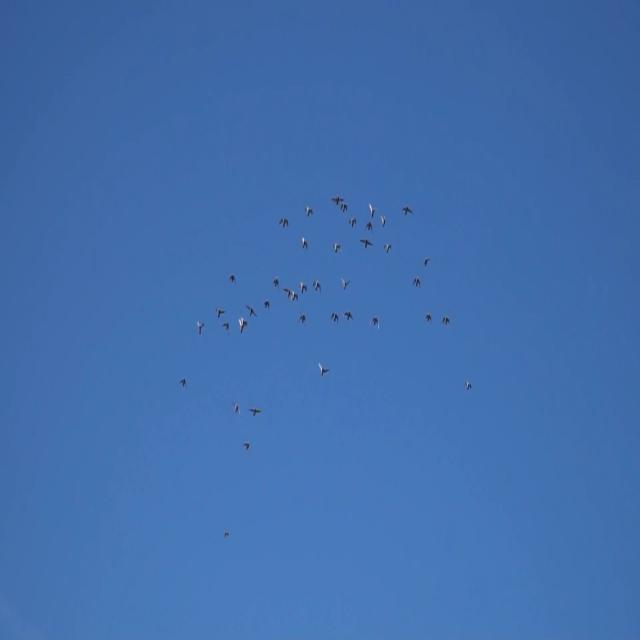bird: (236, 316, 249, 335), (317, 359, 330, 377), (359, 236, 374, 249), (195, 318, 205, 336), (230, 400, 240, 418), (367, 201, 378, 217), (401, 204, 414, 217), (330, 195, 344, 207), (370, 316, 380, 332), (249, 405, 261, 418), (343, 308, 354, 322), (304, 204, 314, 219), (178, 376, 188, 391), (312, 279, 323, 292), (279, 216, 289, 230), (340, 277, 350, 291), (272, 275, 280, 292), (347, 218, 358, 230), (245, 304, 256, 316), (366, 219, 374, 235), (331, 310, 339, 326), (413, 275, 421, 290), (290, 288, 298, 303), (383, 242, 392, 255), (464, 380, 473, 393), (242, 441, 251, 454), (300, 237, 308, 250), (333, 241, 341, 254), (424, 312, 432, 325), (221, 322, 230, 333), (340, 202, 348, 214), (228, 272, 236, 284), (298, 314, 306, 326), (442, 314, 450, 326), (380, 215, 387, 228), (423, 255, 430, 268), (299, 282, 308, 292), (215, 308, 224, 318), (221, 530, 230, 540), (283, 286, 290, 298), (264, 300, 270, 310)
